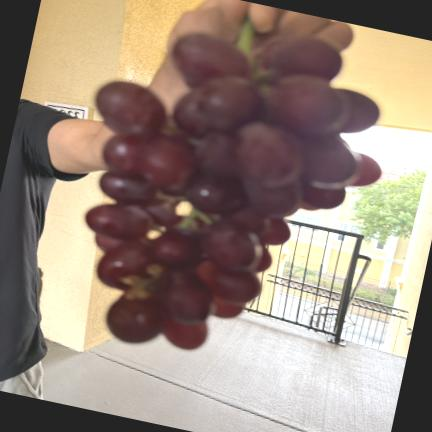grape_cluster: (86, 21, 381, 349)
